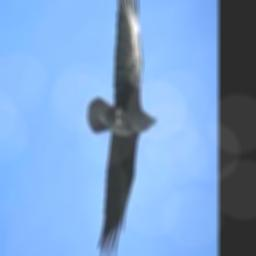Crow: (86, 0, 157, 256)
